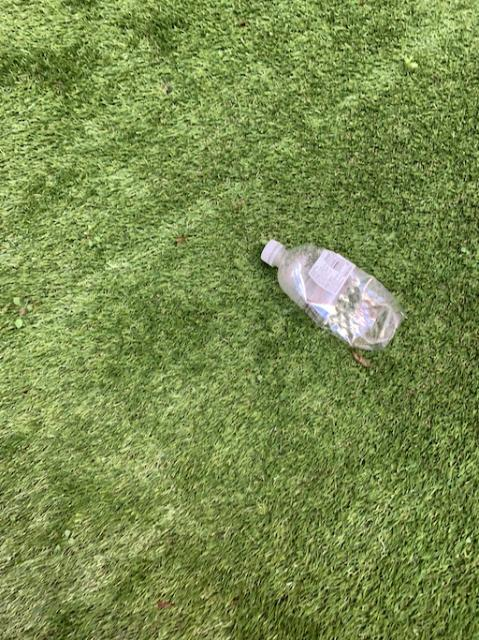plastic: (260, 239, 403, 348)
